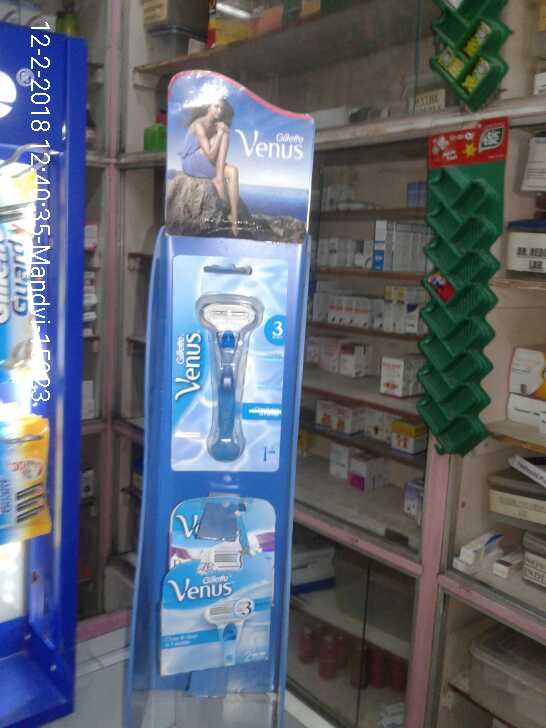venus: (165, 250, 281, 480), (157, 486, 276, 673)
